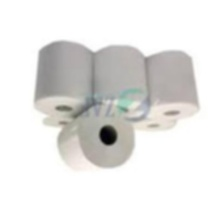tissue: (51, 99, 141, 179), (29, 38, 99, 122), (140, 47, 205, 125), (88, 42, 151, 119), (128, 109, 181, 135)
